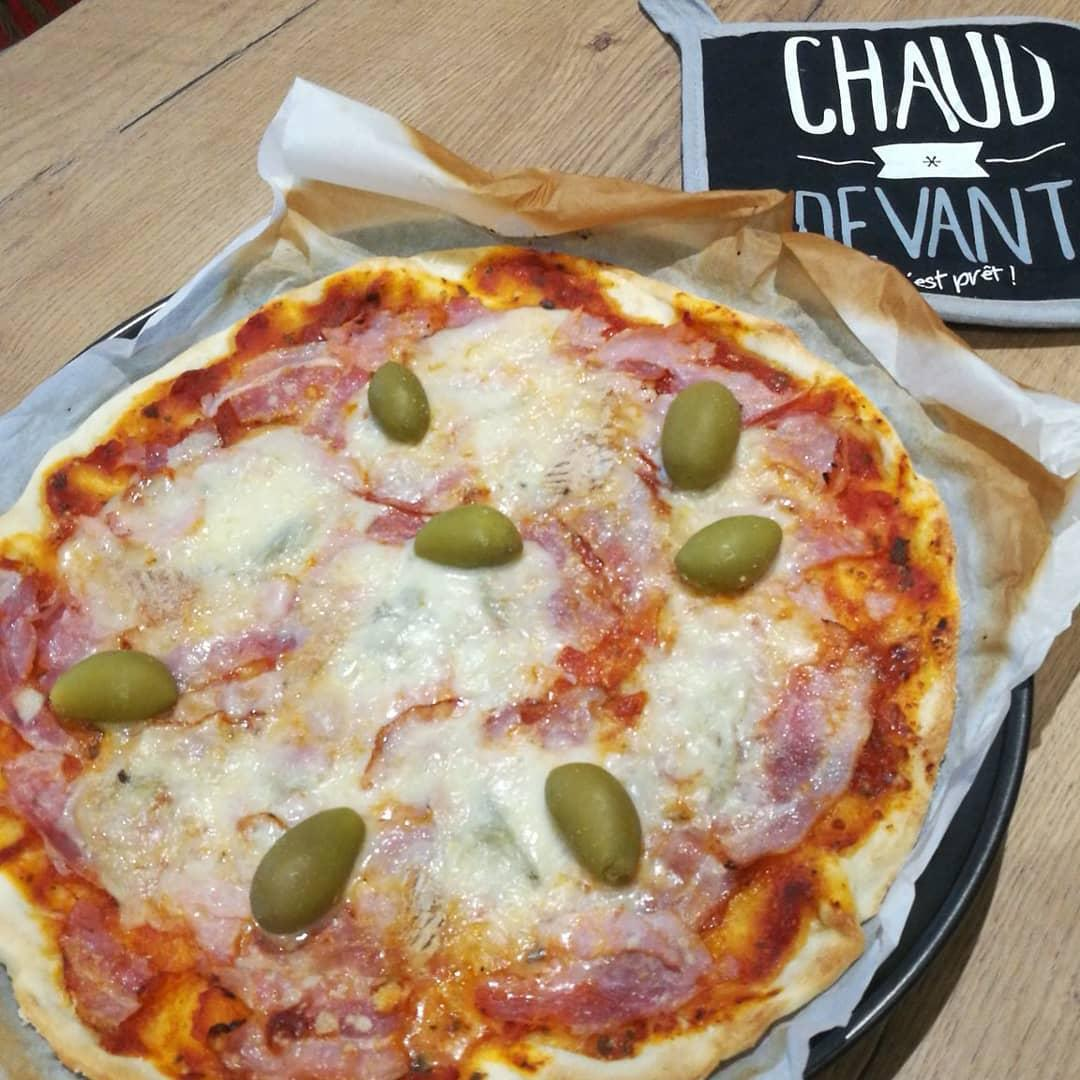Cheese: (361, 590, 528, 704), (466, 348, 580, 486), (186, 472, 331, 566), (419, 759, 526, 884), (657, 636, 756, 761), (125, 771, 224, 876)
Olives: (248, 800, 374, 942), (543, 756, 651, 889), (48, 648, 184, 727), (659, 372, 743, 496), (671, 512, 788, 599), (412, 503, 529, 572), (361, 358, 437, 453)
Pizza: (0, 252, 952, 1080)
